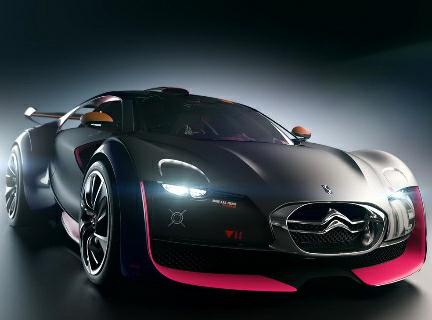雪铁龙-Survolt: (4, 76, 430, 297)
